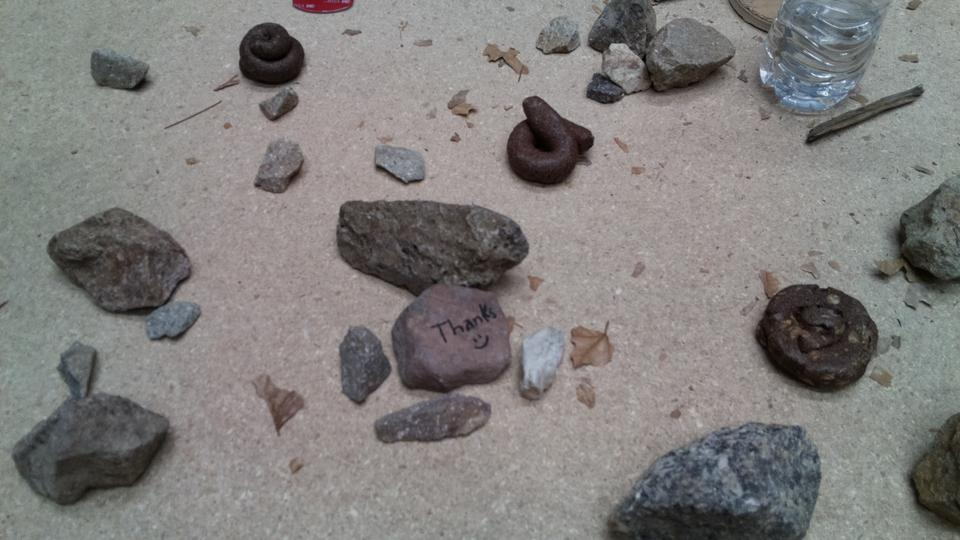poop: (752, 281, 884, 394), (505, 93, 597, 185), (236, 21, 305, 88)
